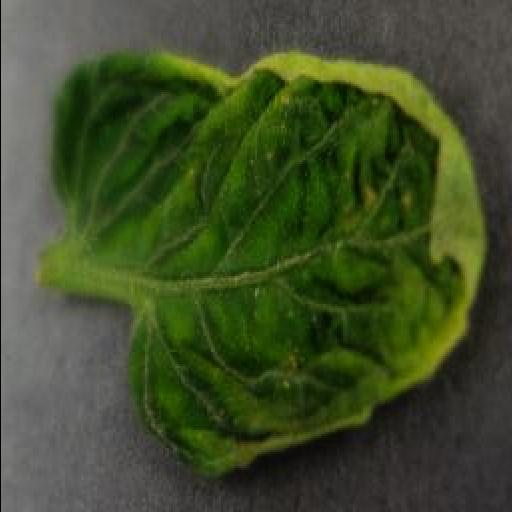disease_tomato: (46, 45, 486, 475)
